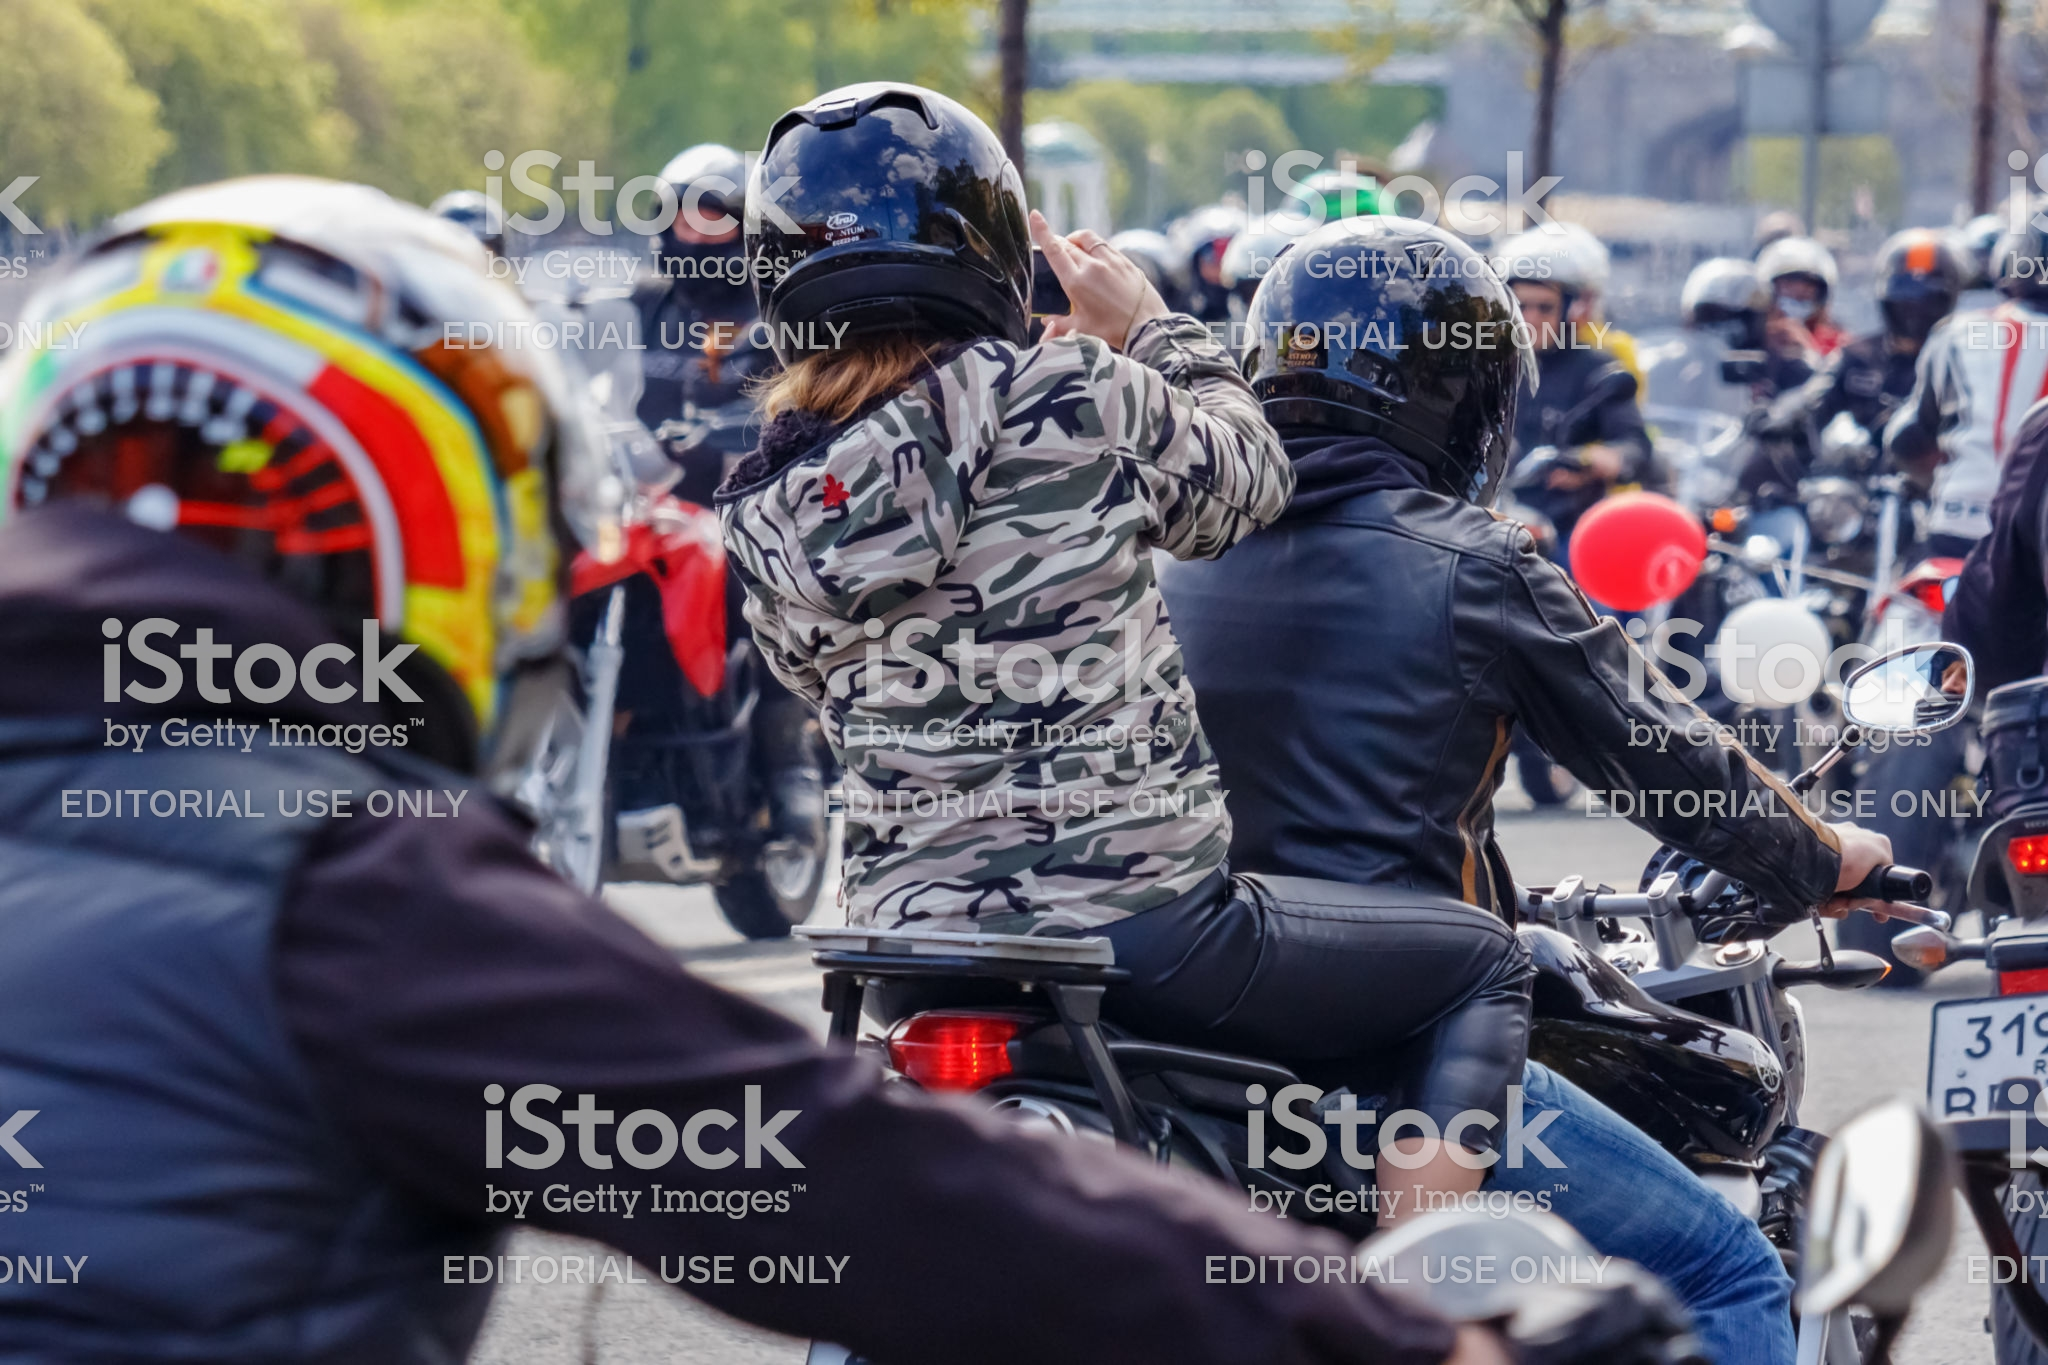helmet: (1230, 215, 1533, 492), (734, 91, 1038, 328)
